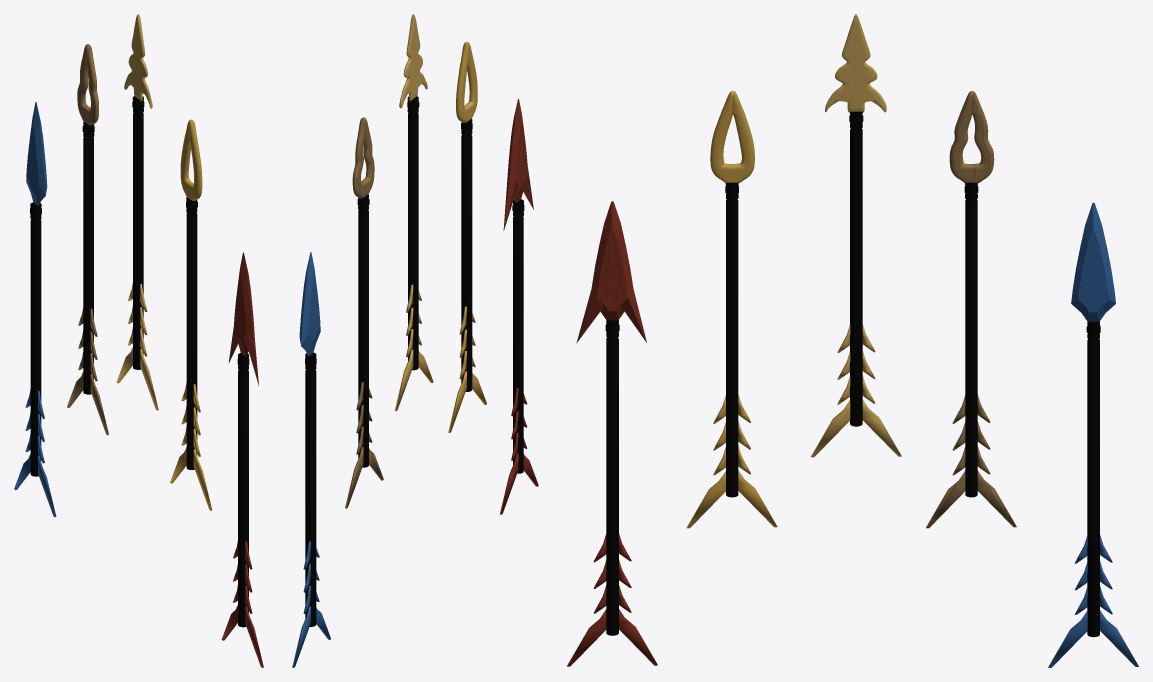
The model's file is arrows.gltf.
The picture shows the model from 3 angles, left to right: view 1: azimuth 30°, elevation 25°; view 2: azimuth 150°, elevation 25°; view 3: azimuth 270°, elevation 25°; orthographic projection. The views are drawn at different scales.
Parts seen in each view (by area): view 1: handle.004, handle.001, handle.005, handle.003, handle.002, Plane.001, Plane.002, head, head.001, Plane; view 2: handle.004, handle.001, handle.005, handle.003, handle.002, Plane.001, Plane.002, head.001, head, Plane; view 3: handle.004, handle.003, handle.005, handle.002, handle.001, Plane.001, Plane.002, Plane, head, head.001.
Part boxes in pixels (x1,y1,x2,y2): handle.004: (30, 202, 41, 476); handle.001: (186, 197, 197, 469); handle.005: (237, 353, 249, 627); handle.003: (132, 96, 144, 369); handle.002: (82, 121, 94, 394); Plane.001: (228, 252, 258, 385); Plane.002: (26, 102, 47, 205); head: (180, 119, 202, 200); head.001: (77, 44, 98, 125); Plane: (124, 14, 152, 108); handle.004: (305, 352, 316, 626); handle.001: (461, 119, 472, 391); handle.005: (512, 199, 524, 473); handle.003: (407, 96, 419, 370); handle.002: (357, 194, 369, 467); Plane.001: (503, 98, 533, 230); Plane.002: (299, 252, 320, 356); head.001: (352, 117, 374, 198); head: (456, 41, 477, 122); Plane: (399, 14, 427, 108); handle.004: (1086, 321, 1100, 637); handle.003: (849, 111, 863, 426); handle.005: (605, 320, 619, 635); handle.002: (964, 183, 978, 497); handle.001: (725, 183, 738, 497); Plane.001: (576, 201, 646, 343); Plane.002: (1071, 202, 1115, 321); Plane: (825, 14, 886, 112); head: (710, 91, 754, 183); head.001: (949, 91, 994, 183).
Size of the model in its own units: 11.58 by 601 by 477.
Materials: 6 (5 with a texture image).
